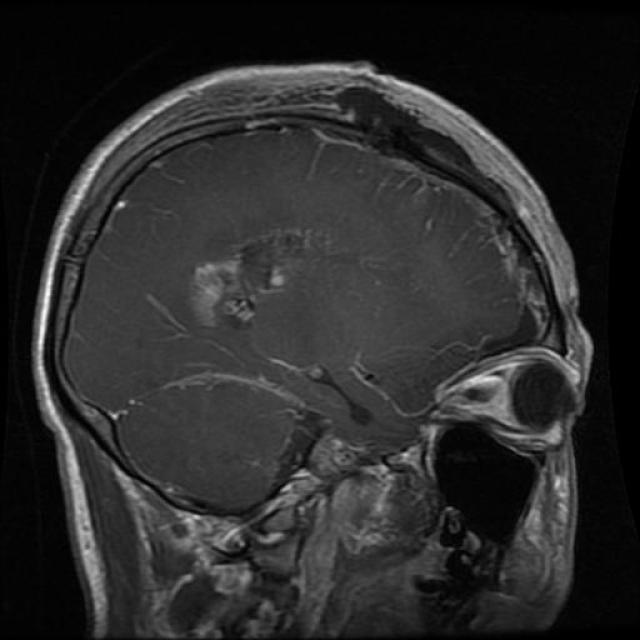glioma: (191, 225, 349, 331)
